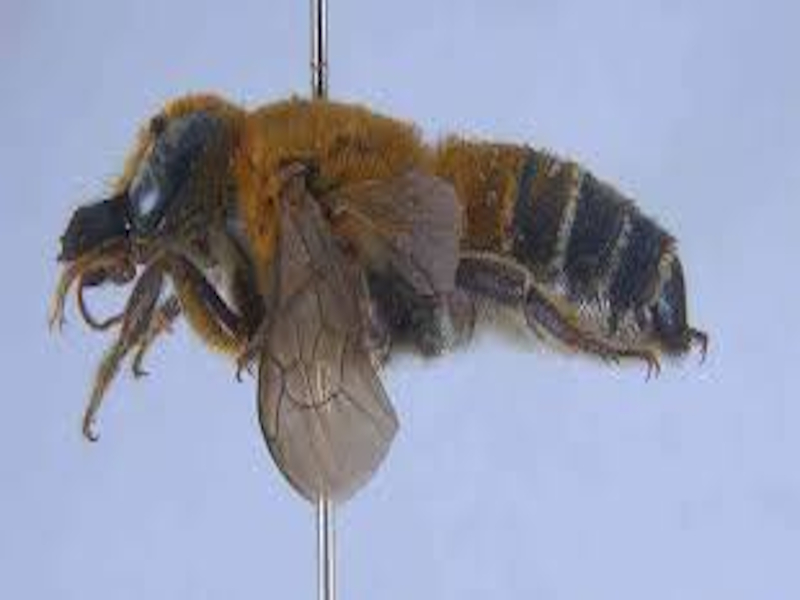abeja: (50, 85, 750, 447)
